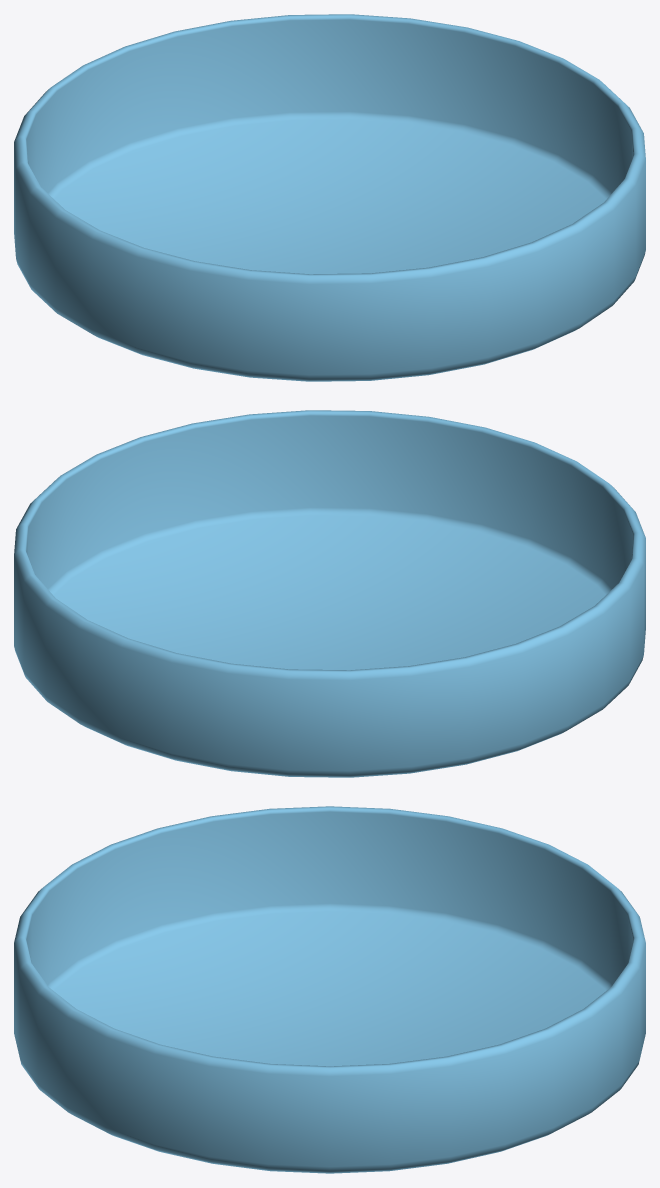
File: bowl.glb
3 views of the same model, one above another, from view 1: azimuth 30°, elevation 25°; view 2: azimuth 150°, elevation 25°; view 3: azimuth 270°, elevation 25° (orthographic).
Parts seen in each view (by area): view 1: Bowl; view 2: Bowl; view 3: Bowl.
Part boxes in pixels (x1,y1,x2,y2): Bowl: (14, 14, 645, 381); Bowl: (14, 410, 645, 777); Bowl: (14, 806, 645, 1173).
Bounding box in the file's own units: 4 × 0.7416 × 4.
